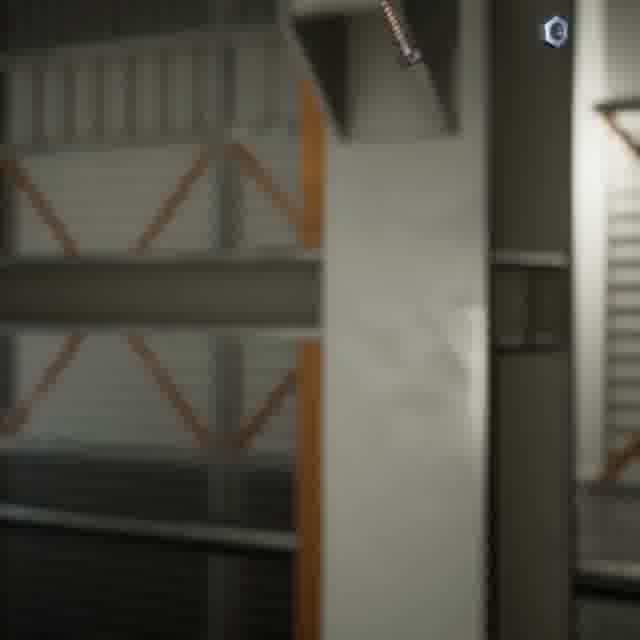bolt: (375, 0, 427, 72)
nut: (534, 11, 573, 53)
